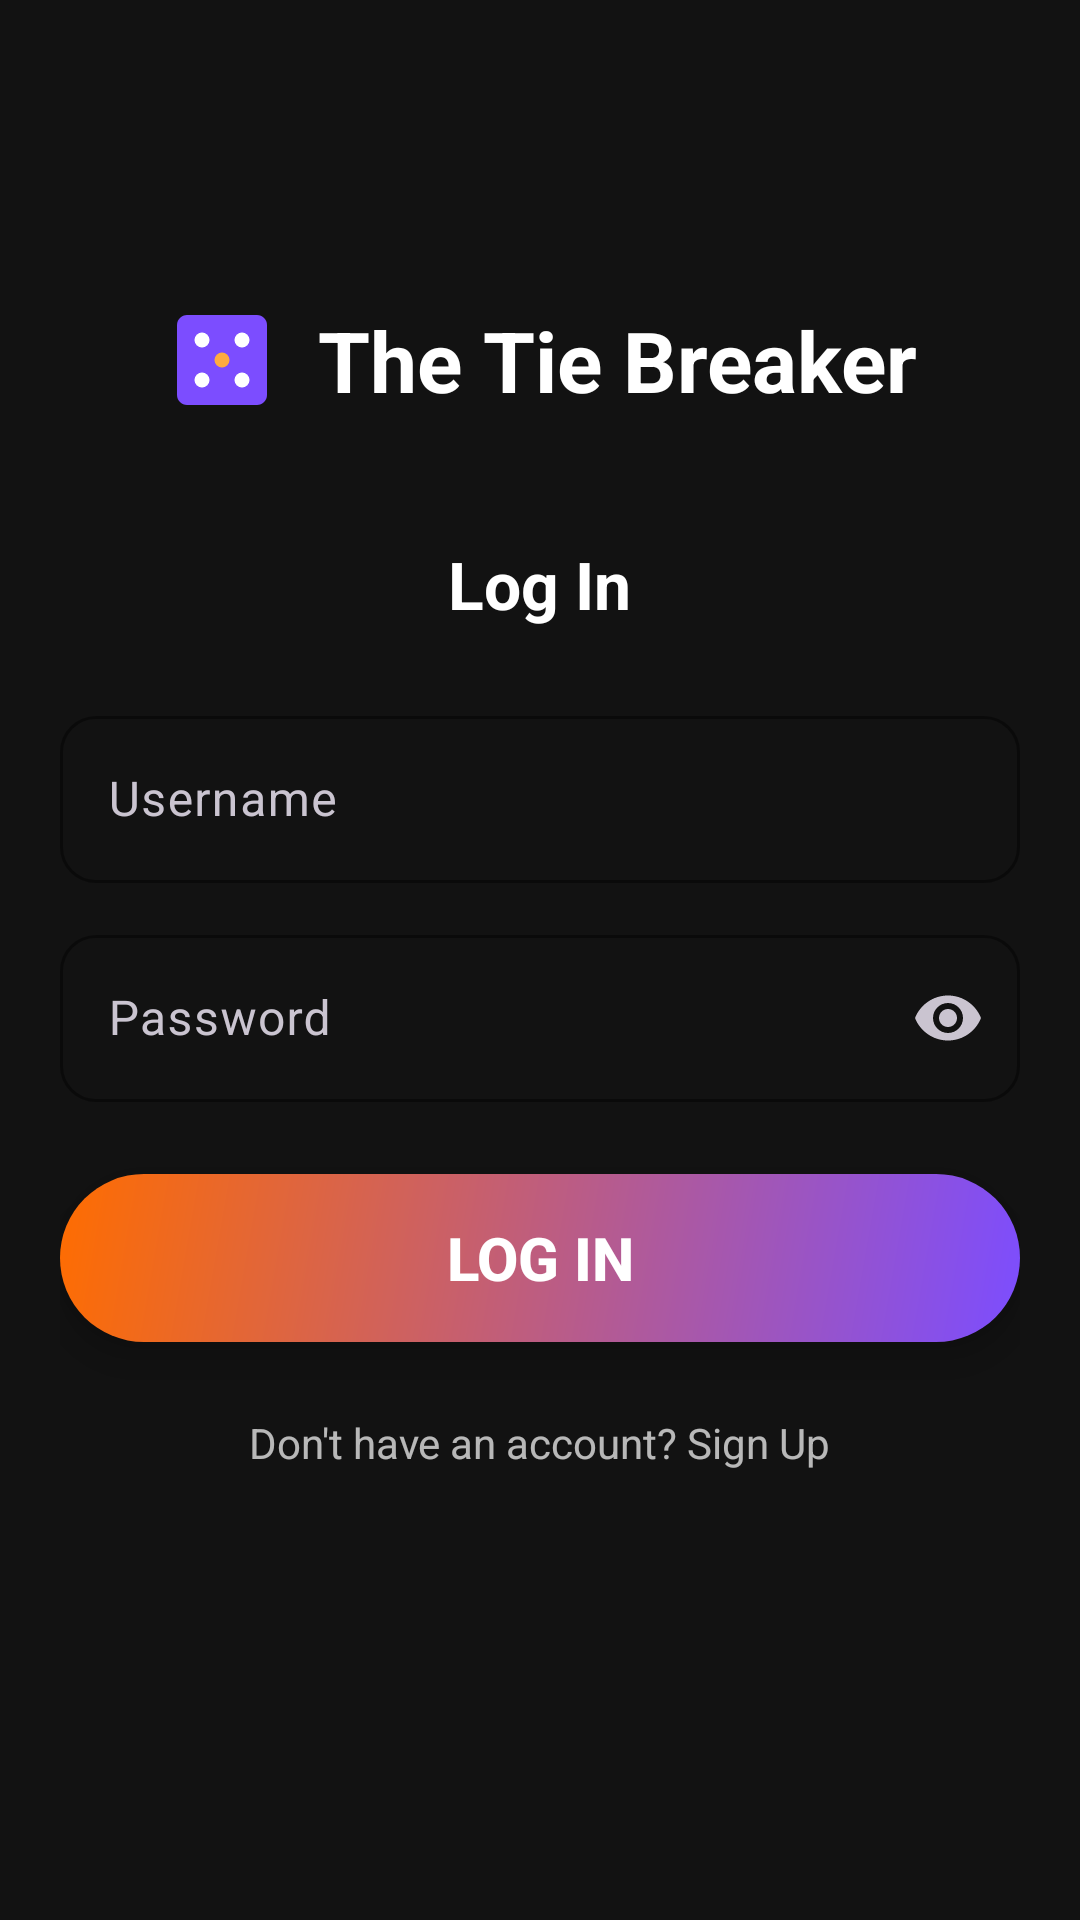

Screen size 1080 × 1920. Icon name, then its center in pixels as [x,y]:
App icon: [222,360]
